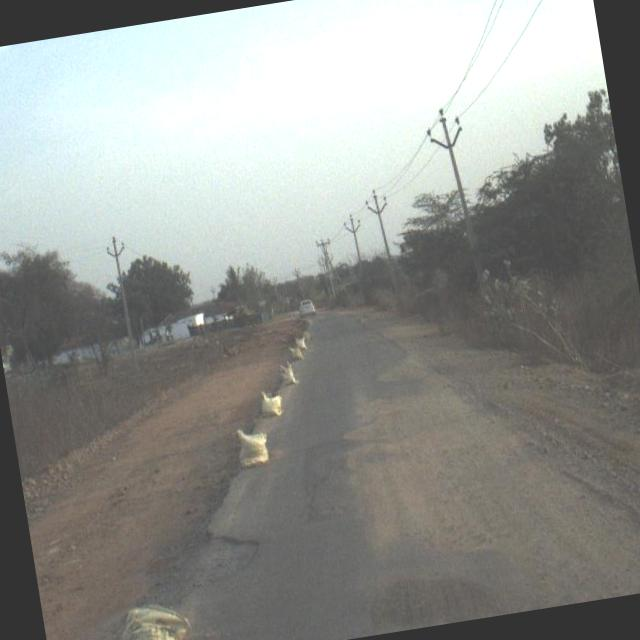pothole: (301, 351, 444, 537), (351, 548, 498, 638), (168, 496, 280, 612)
